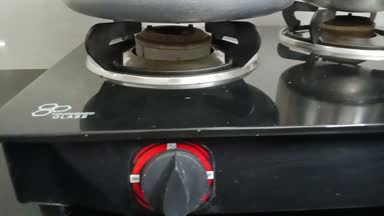noflame_gason: (92, 18, 246, 216)
